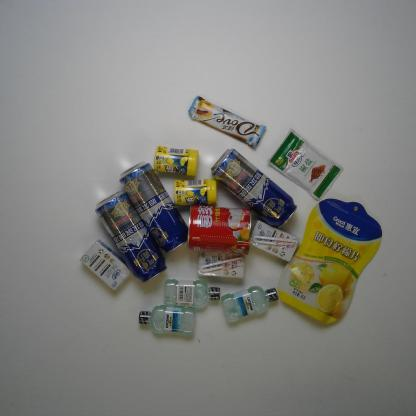Alcohol: (210, 146, 298, 229), (94, 189, 168, 284), (118, 160, 191, 253)
Canned Food: (186, 206, 254, 257)
Chocolate: (189, 95, 268, 147)
Dried Fruit: (275, 198, 384, 328)
Gum: (155, 143, 200, 176), (171, 179, 220, 205)
Milk: (81, 240, 131, 292), (249, 220, 300, 262), (197, 248, 247, 280)
Personal Hygiene: (219, 284, 282, 322), (160, 274, 222, 308), (136, 301, 198, 334)
Seasoner: (269, 127, 342, 200)
